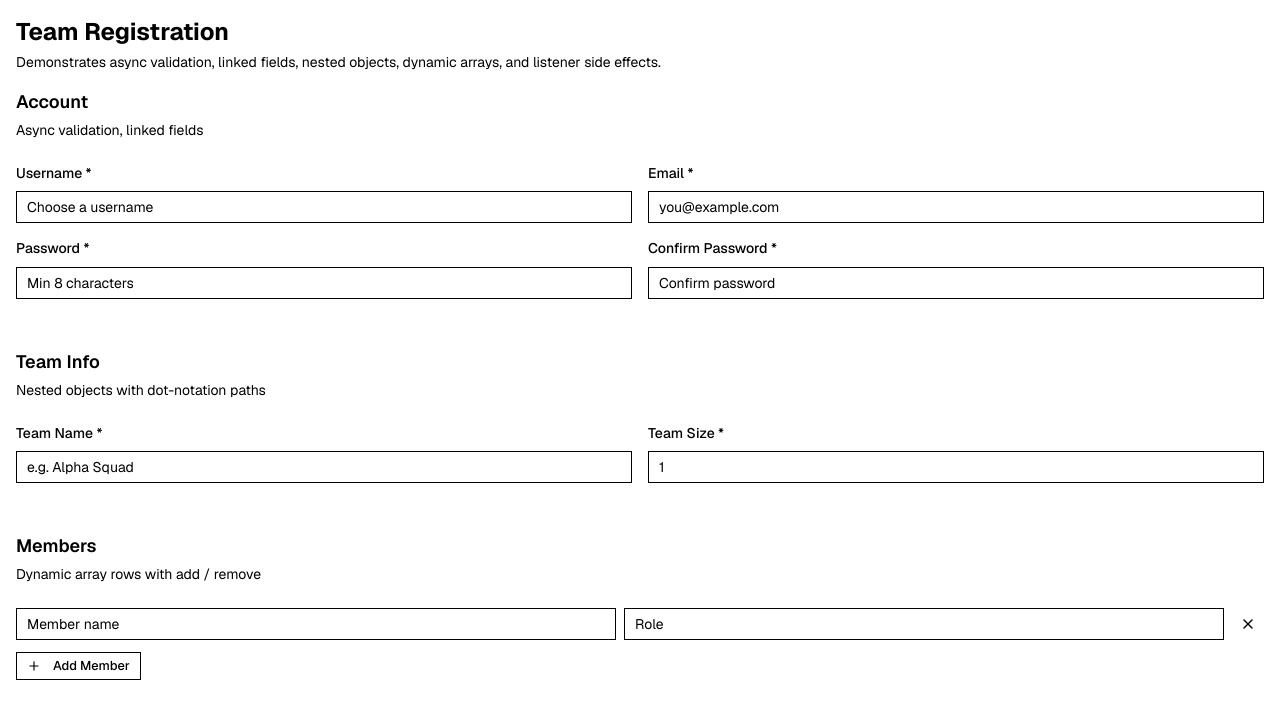
Test: AdvancedFormPatterns › rejects taken usernames through async validation
The image size is (1280, 720).
Type "ab" into the field labelled "Username *" at x=324, y=207, box [16,191,632,223]
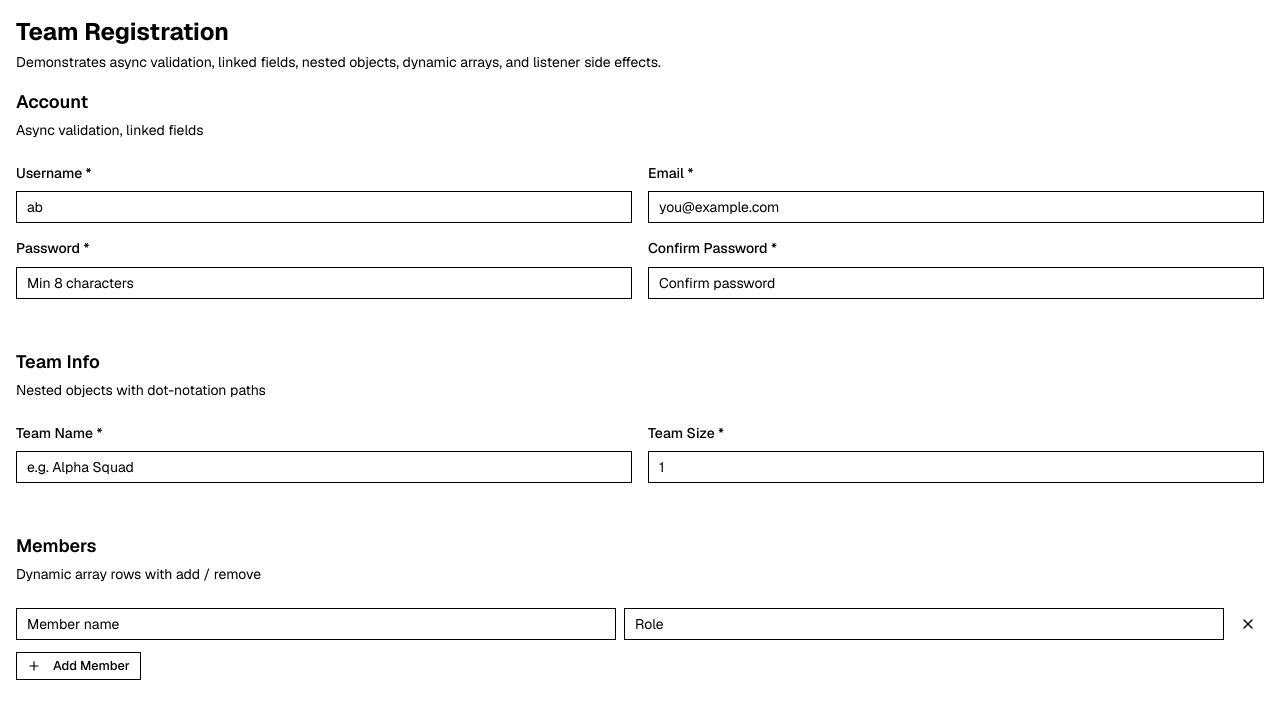
Replace the text in the field labelled "Username *" with "admin" at x=324, y=207, box [16,191,632,223]
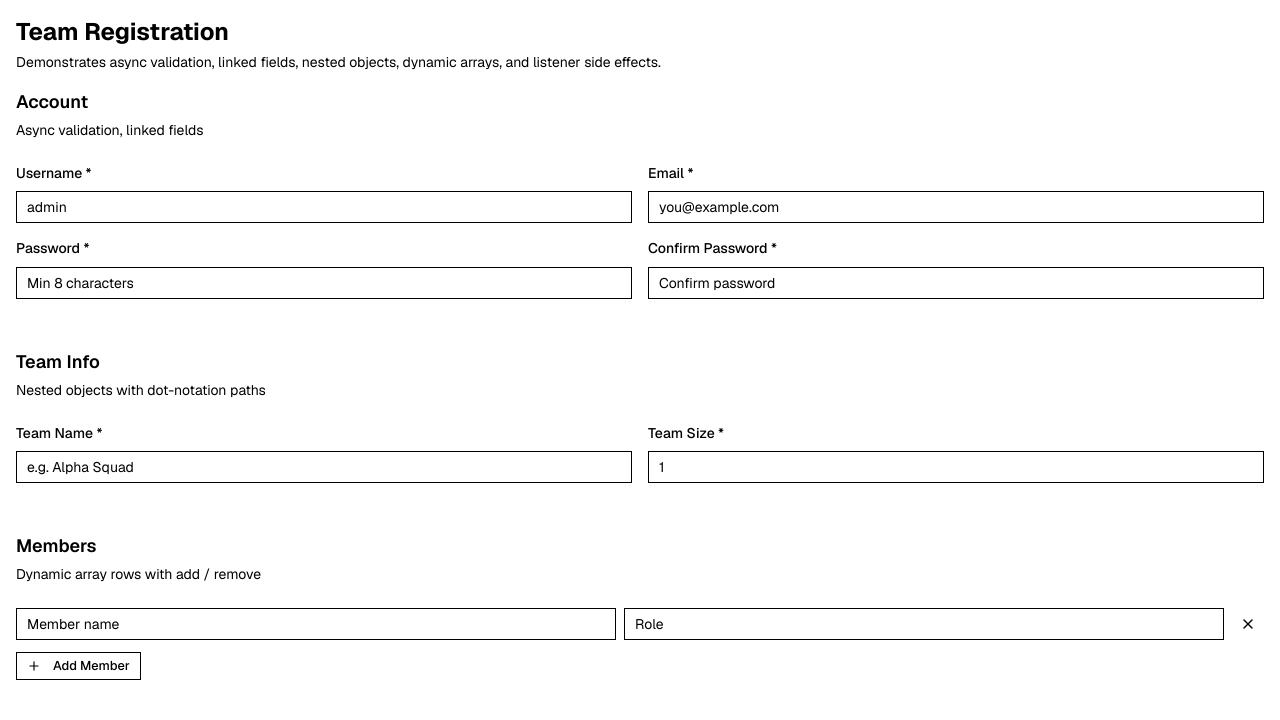
Leave the field labelled "Username *", box [16,191,632,223]
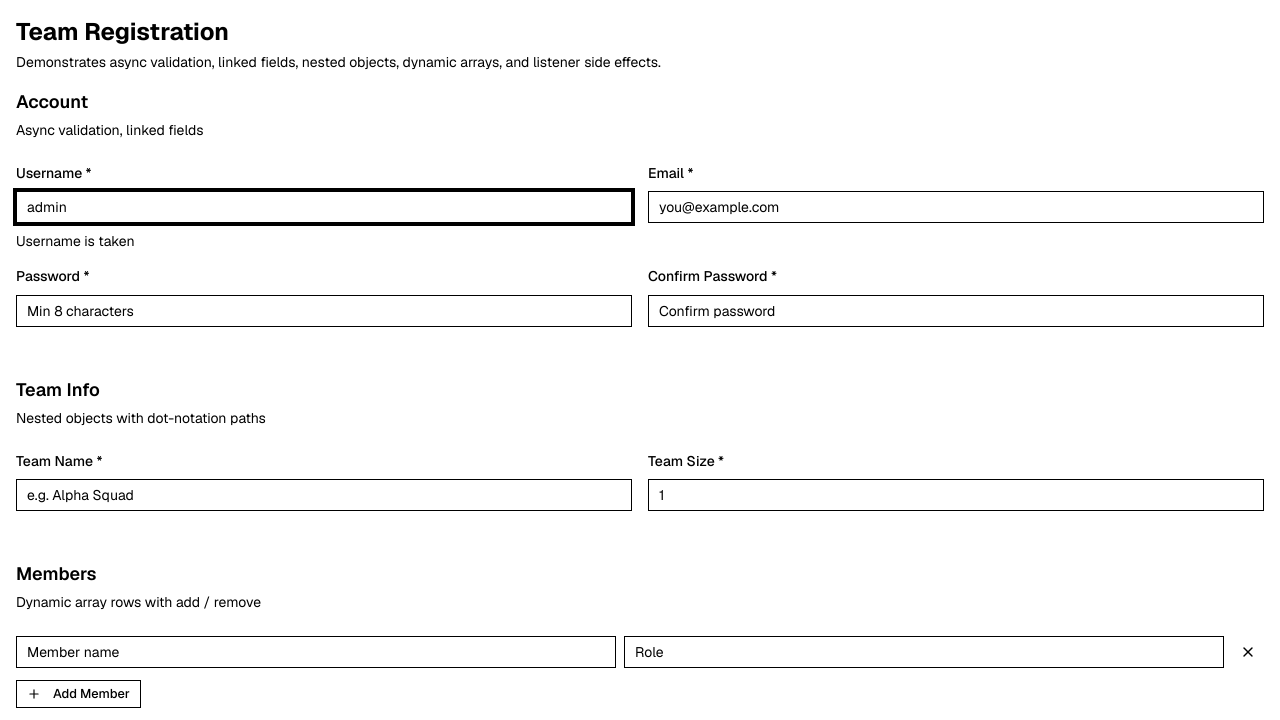
Expected: the text "Username is taken" is shown, [16,232,135,250]
